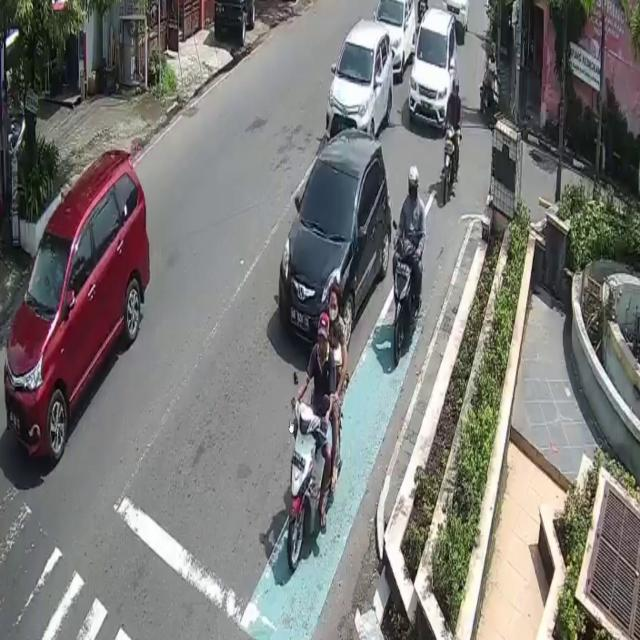bus: (288, 396, 342, 576), (393, 238, 423, 362), (481, 62, 499, 136), (442, 121, 458, 202)
motorcycle: (3, 146, 152, 465), (279, 128, 392, 348), (323, 18, 393, 144), (408, 7, 458, 134), (376, 1, 416, 80)
